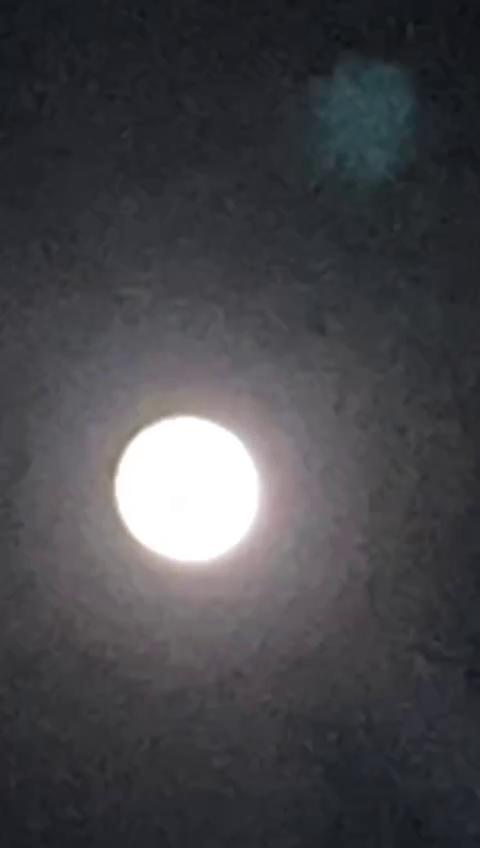moon: (110, 393, 276, 584)
